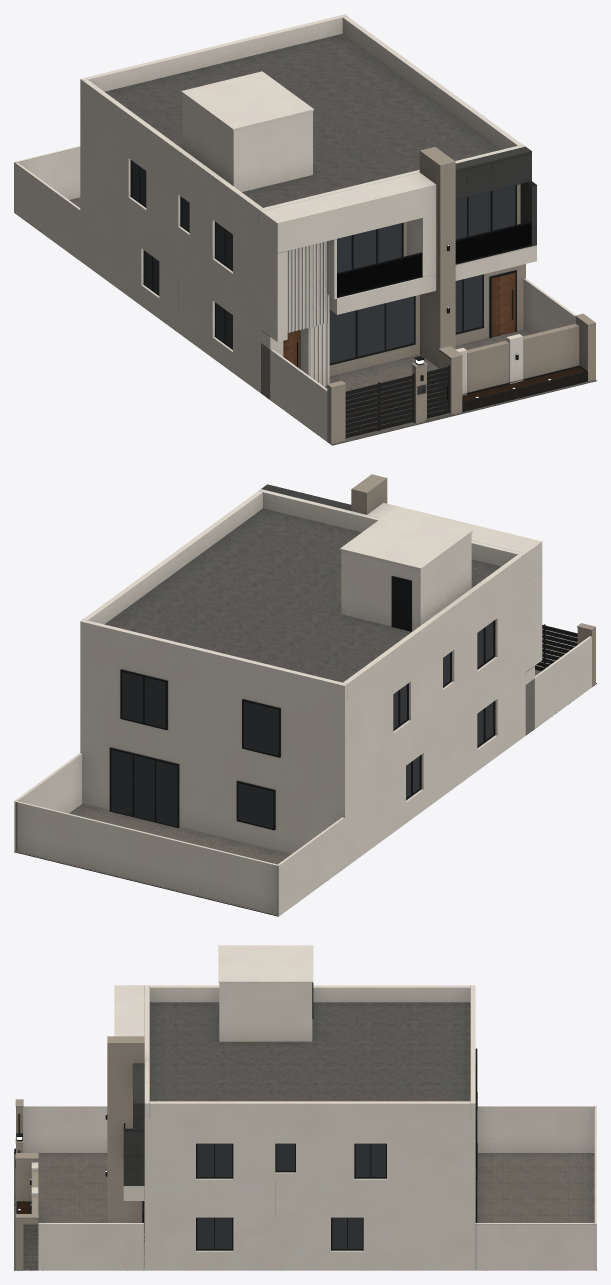
The model's file is house_C.glb.
3 renders of one model, top to bottom at view 1: azimuth 30°, elevation 25°; view 2: azimuth 150°, elevation 25°; view 3: azimuth 270°, elevation 25°, orthographic. The views are drawn at different scales.
Parts seen in each view (by area): view 1: body, glass; view 2: body, glass; view 3: body, glass.
Boxes of the visible parts, box(x1,y1,x2,y2) form: body: box(14, 14, 596, 445); glass: box(132, 161, 515, 363); body: box(14, 474, 596, 916); glass: box(111, 621, 493, 827); body: box(14, 945, 596, 1270); glass: box(197, 1144, 385, 1248).
Bounding box in the file's own units: 12 × 10.06 × 25.
Materials: 3 (1 with a texture image).
